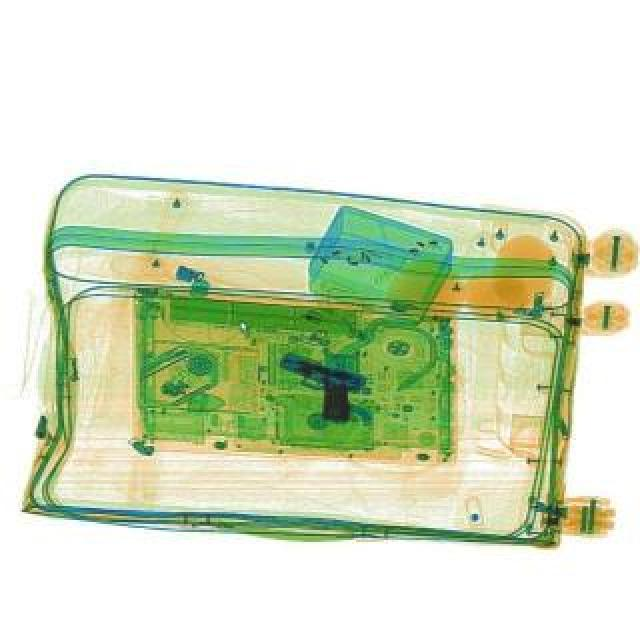gun: (262, 346, 366, 424)
